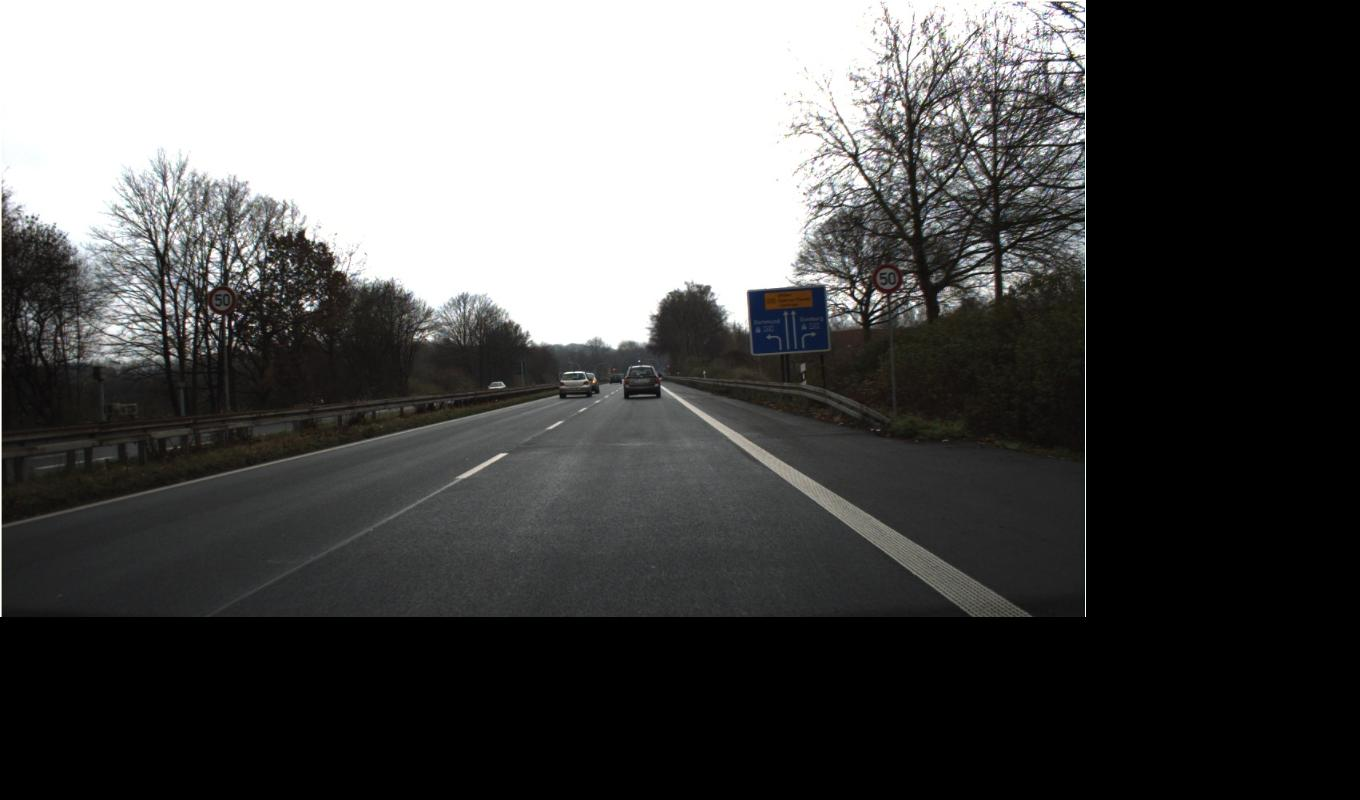speed limit 50: (207, 263, 903, 315)
